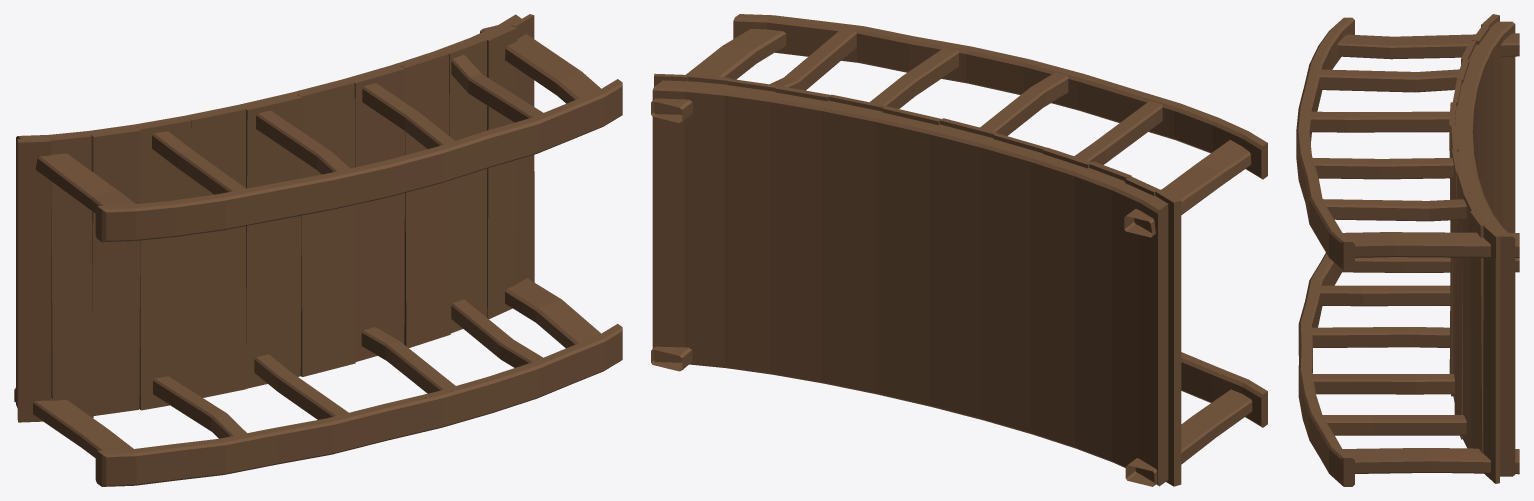
File: Bridge_04.fbx
The picture shows the model from 3 angles, left to right: view 1: azimuth 30°, elevation 25°; view 2: azimuth 150°, elevation 25°; view 3: azimuth 270°, elevation 25°; orthographic projection. The views are drawn at different scales.
Parts seen in each view (by area): view 1: bridge_2.002; view 2: bridge_2.002; view 3: bridge_2.002.
Boxes of the visible parts, <box> form: bridge_2.002: <box>14,14,622,486</box>; bridge_2.002: <box>651,14,1267,486</box>; bridge_2.002: <box>1296,14,1519,486</box>.
Size of the model in its own units: 372 by 193 by 157.
